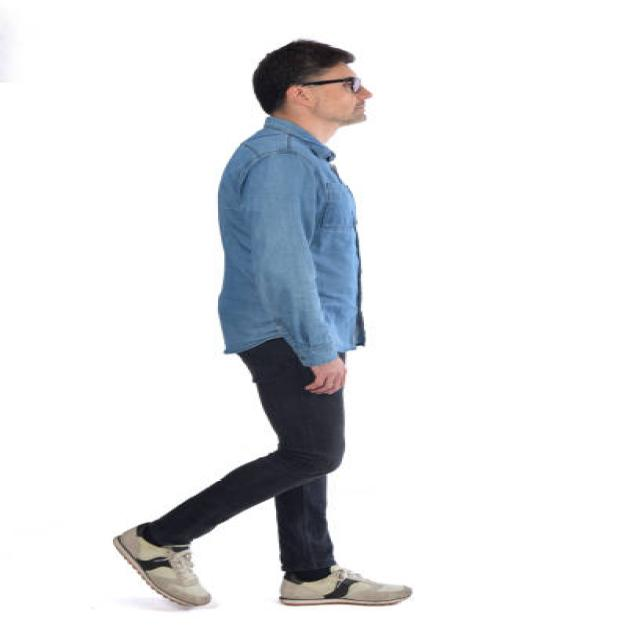Edited images: (94, 25, 449, 622)
